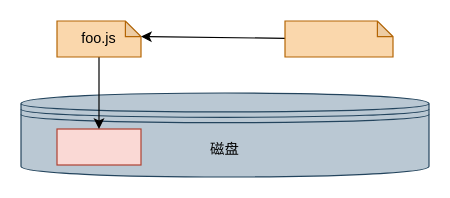
Image size: 450x198. Some labels were removed from this diagram. Here are the shapes that lost their labels. From the top down, the centre of each, then its label:
At point 338,38: "foo_soft.js".
At point 98,146: "data".
